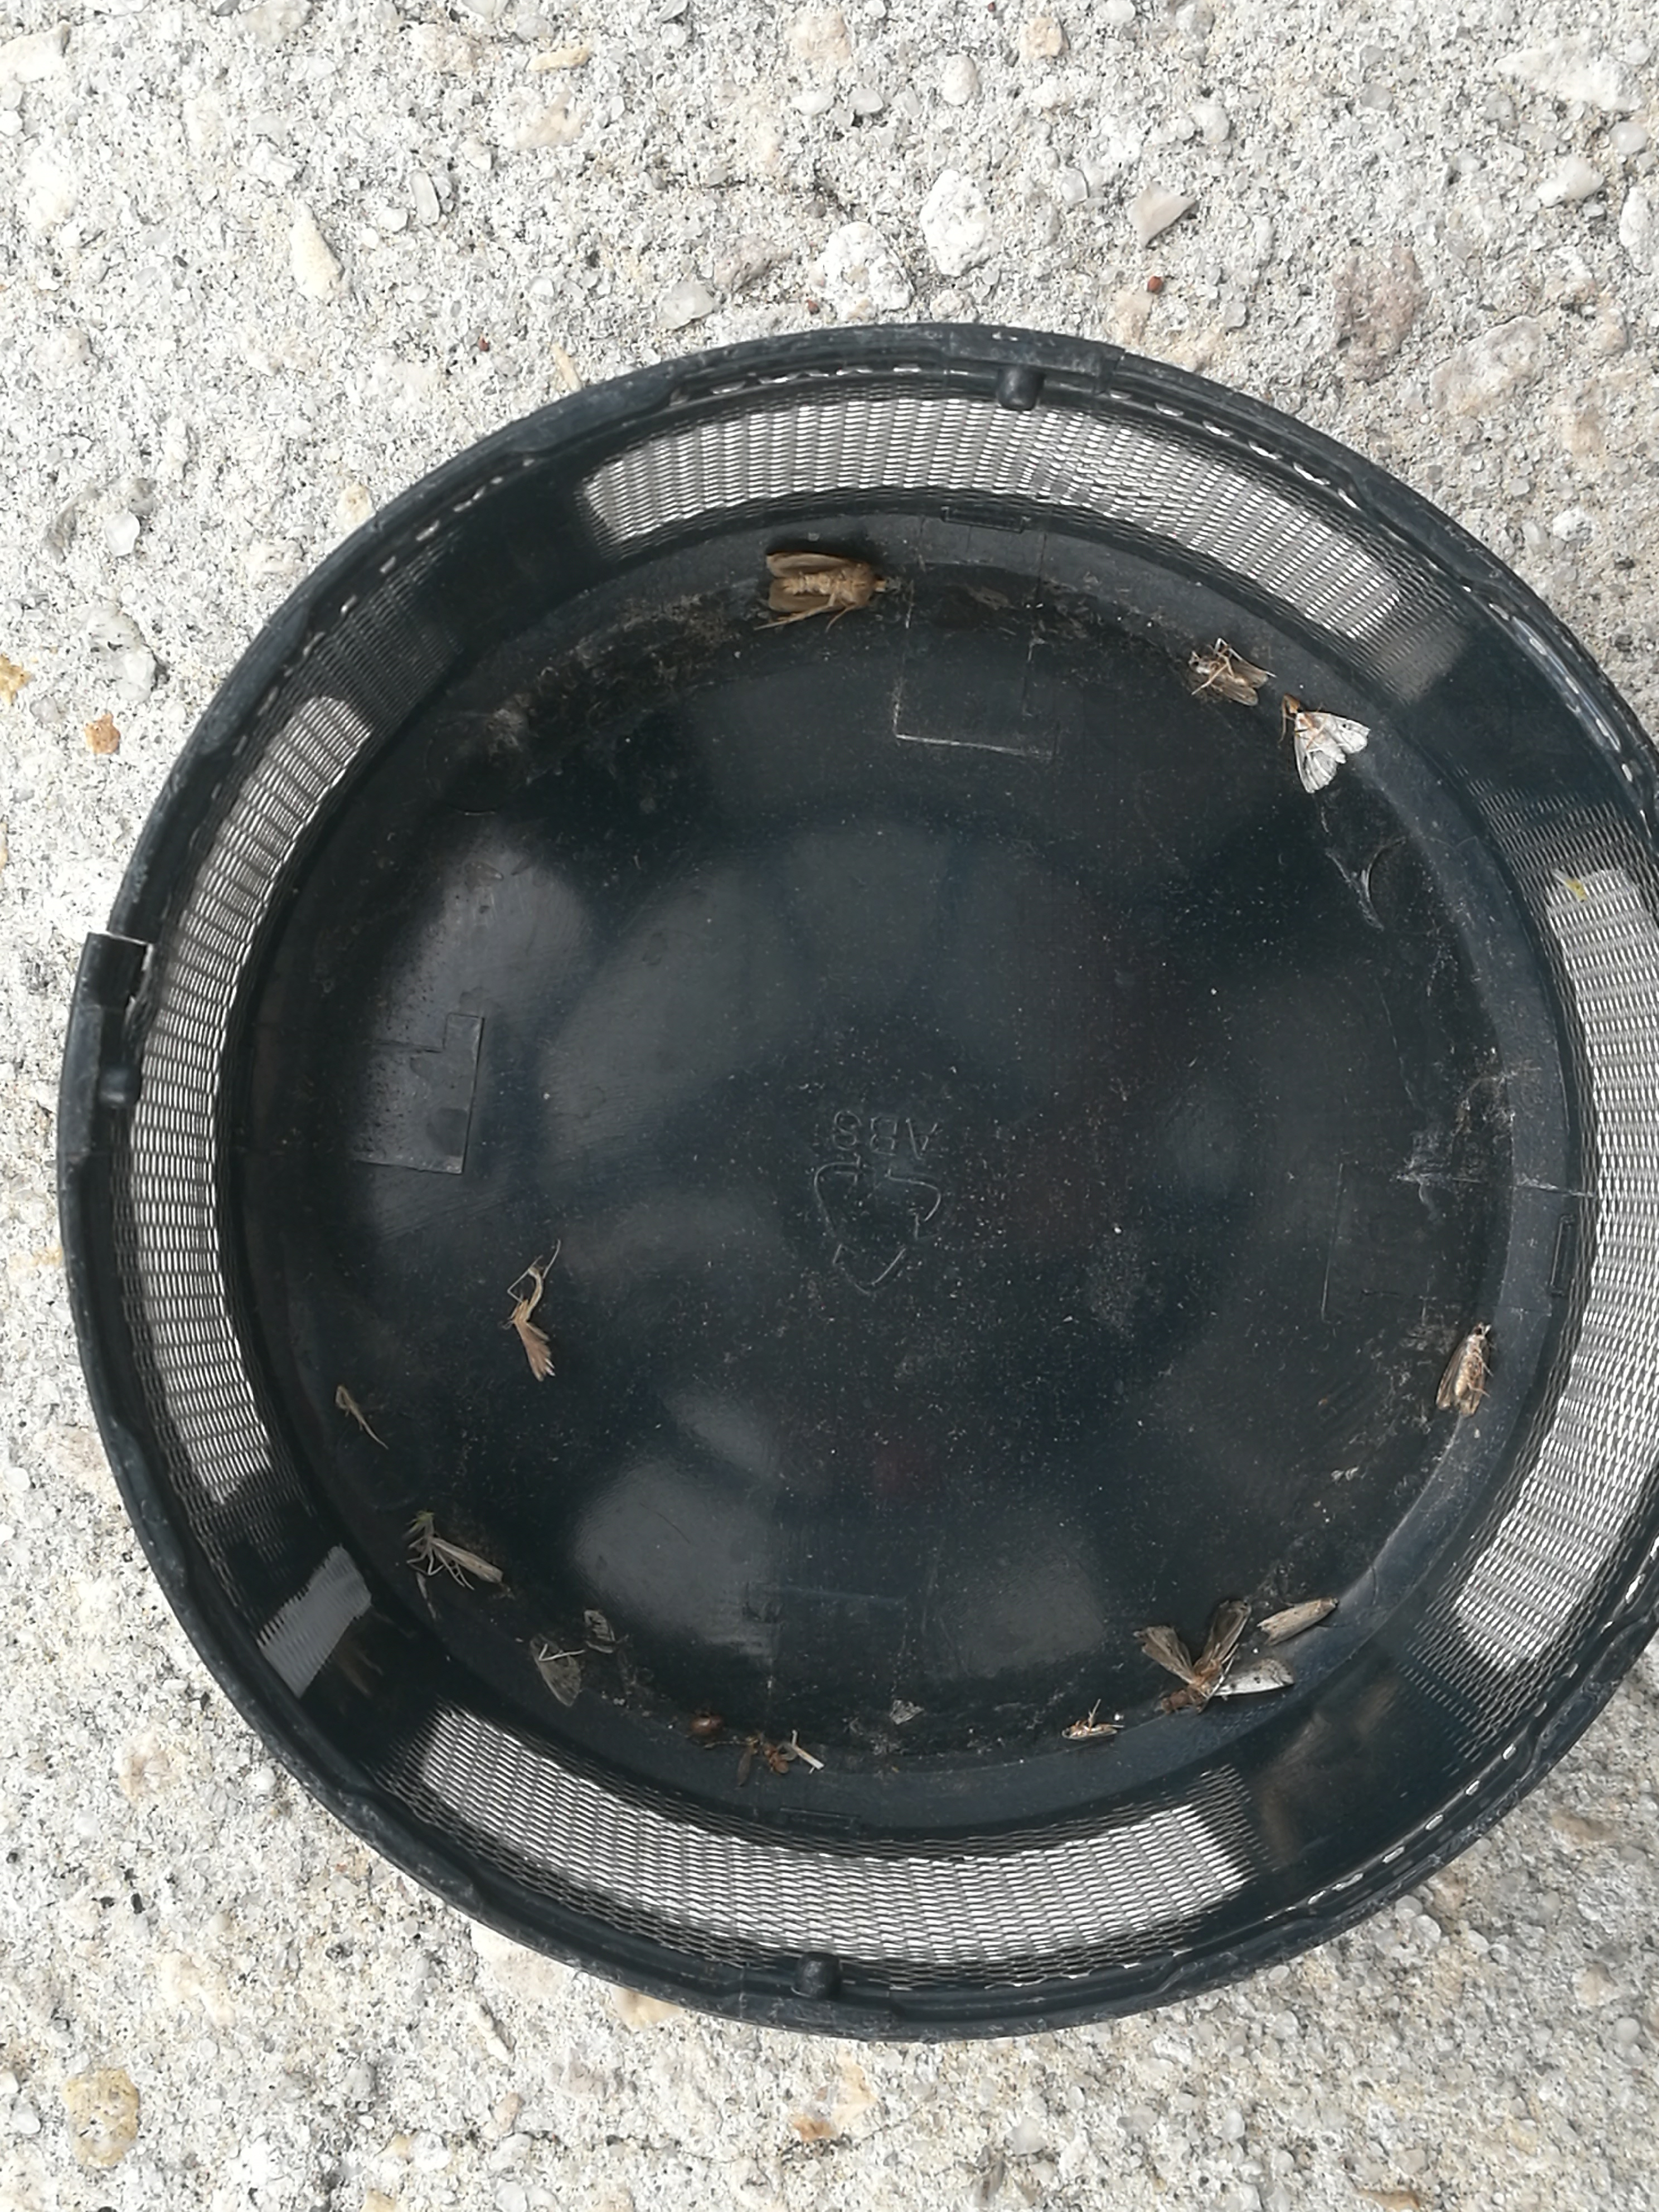mosquito: (1255, 1597, 1337, 1644), (427, 1534, 500, 1587)
moth: (1141, 1597, 1290, 1700), (749, 554, 885, 627), (1293, 716, 1370, 791), (1438, 1325, 1488, 1413), (1188, 657, 1267, 707)
